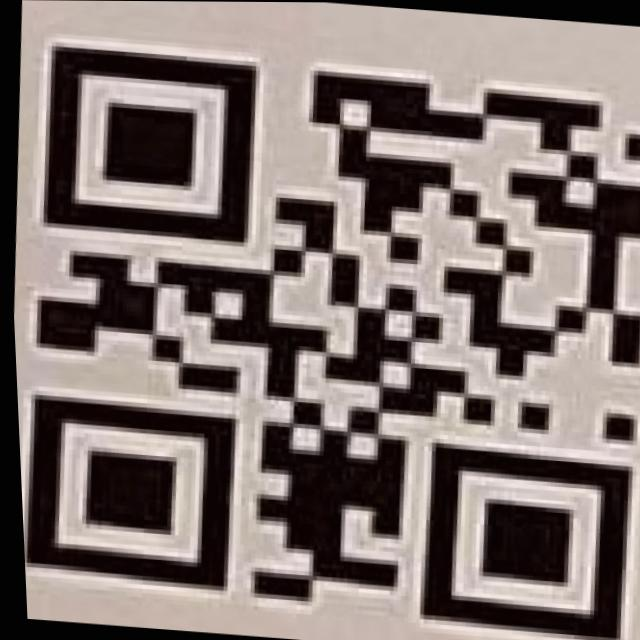QR_CODE: (1, 39, 640, 640)
